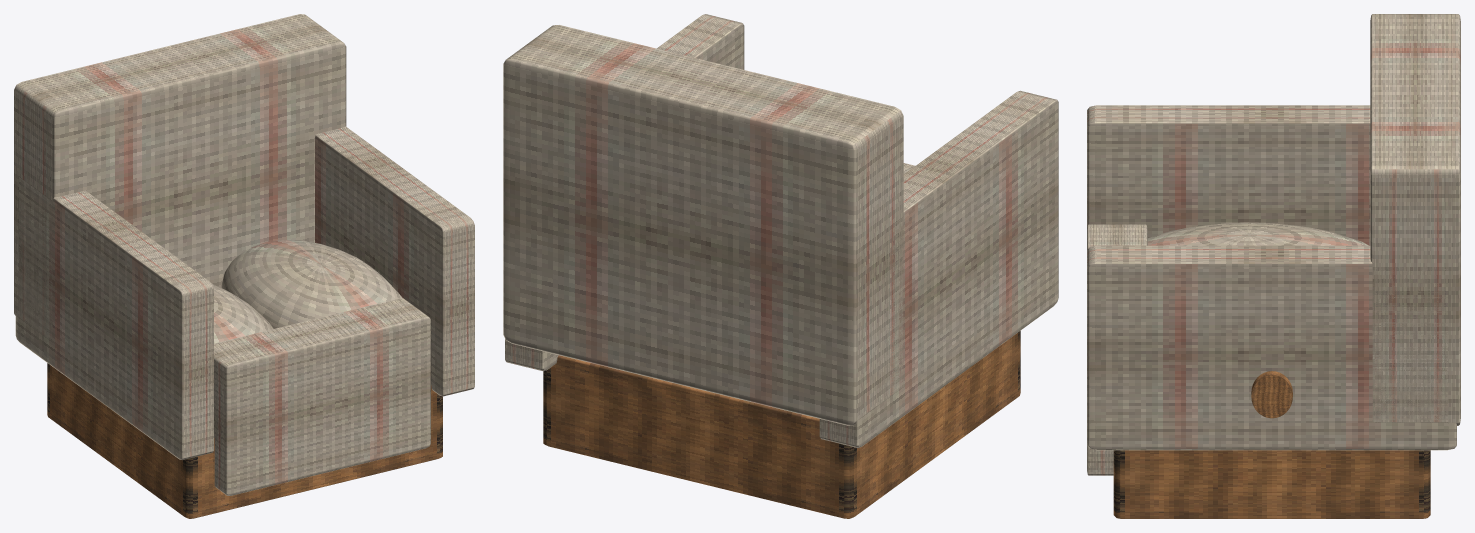
The model's file is recliner.glb.
The picture shows the model from 3 angles, left to right: view 1: azimuth 30°, elevation 25°; view 2: azimuth 150°, elevation 25°; view 3: azimuth 270°, elevation 25°; orthographic projection. The views are drawn at different scales.
Visible parts, largest first — view 1: back, arm (×2), footrest, plinth, cushion (×2); view 2: back, arm (×2), plinth; view 3: arm (×2), back, plinth, cushion, footrest, lever.
Part boxes in pixels (x1,y1,x2,y2): back: (14,14,346,340); arm (×2): (15,126,474,459); footrest: (214,298,430,495); plinth: (47,363,442,518); cushion (×2): (212,240,402,343); back: (503,25,903,425); arm (×2): (505,14,1058,447); plinth: (543,331,1020,518); arm (×2): (1087,105,1456,450); back: (1370,14,1460,425); plinth: (1113,450,1430,518); cushion: (1147,222,1368,245); footrest: (1087,224,1147,475); lever: (1251,371,1292,418).
Bounding box in the file's own units: 0.902 × 0.94 × 0.8811.
Materials: 2 (2 with a texture image).
